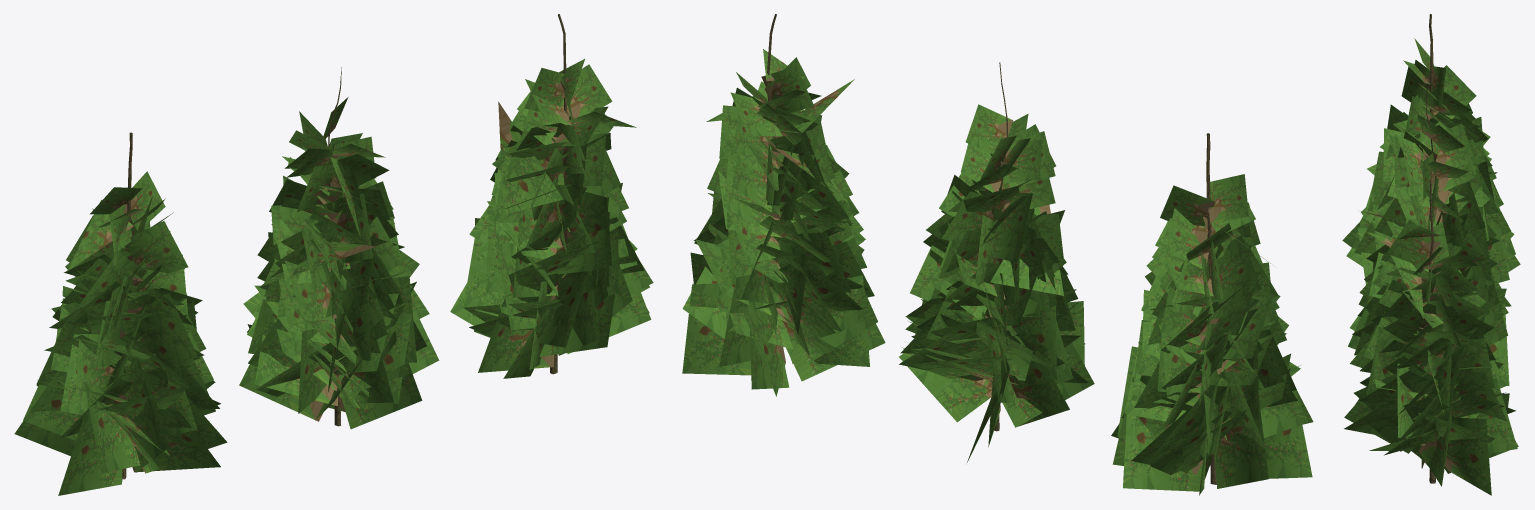
Rendered from tree_alive.glb.
3 views of the same model, side by side, from view 1: azimuth 30°, elevation 25°; view 2: azimuth 150°, elevation 25°; view 3: azimuth 270°, elevation 25° (orthographic). The views are drawn at different scales.
Parts seen in each view (by area): view 1: Tree_0, Tree-2_2, Tree-1_1; view 2: Tree-2_2, Tree_0, Tree-1_1; view 3: Tree-2_2, Tree-1_1, Tree_0.
Part boxes in pixels (x1,y1,x2,y2): Tree_0: (14, 132, 227, 495); Tree-2_2: (450, 14, 653, 378); Tree-1_1: (239, 67, 439, 429); Tree-2_2: (682, 14, 885, 396); Tree_0: (1111, 133, 1313, 495); Tree-1_1: (899, 62, 1094, 462); Tree-2_2: (1344, 180, 1518, 495); Tree-1_1: (1348, 85, 1509, 385); Tree_0: (1342, 14, 1520, 306).
Bounding box in the file's own units: 9.23 × 5.45 × 2.83.
Materials: 2 (2 with a texture image).
